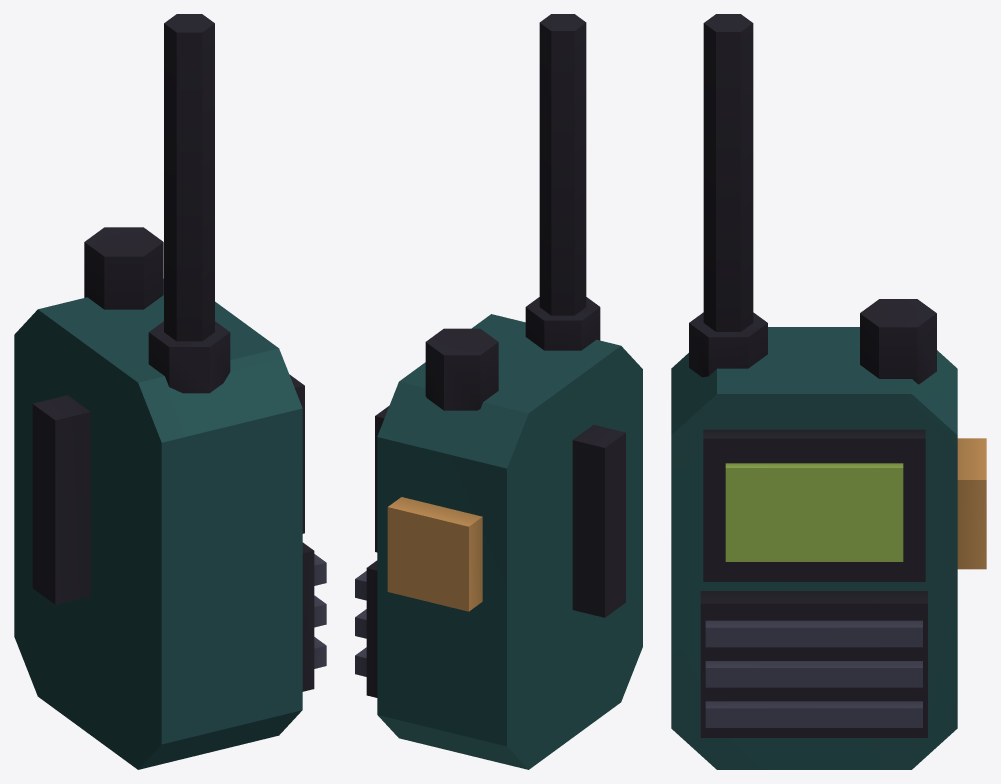
Rendered from util.radio.lod2.glb.
The picture shows the model from 3 angles, left to right: view 1: azimuth 30°, elevation 25°; view 2: azimuth 150°, elevation 25°; view 3: azimuth 270°, elevation 25°; orthographic projection. The views are drawn at different scales.
Parts seen in each view (by area): view 1: body; view 2: body; view 3: body.
Boxes of the visible parts, x1,y1,x2,y2 form: body: (14, 14, 326, 769); body: (355, 14, 642, 769); body: (671, 14, 986, 769).
Size of the model in its own units: 0.2575 by 0.79 by 0.3195.
